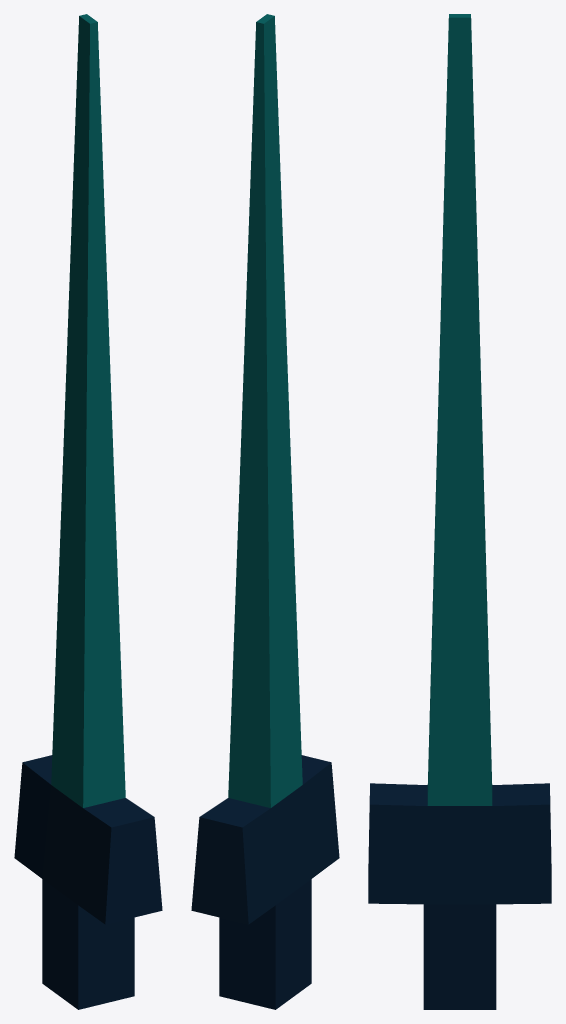
File: miecz.fbx
The picture shows the model from 3 angles, left to right: view 1: azimuth 30°, elevation 25°; view 2: azimuth 150°, elevation 25°; view 3: azimuth 270°, elevation 25°; orthographic projection.
Parts seen in each view (by area): view 1: Miecz; view 2: Miecz; view 3: Miecz.
Boxes of the visible parts, <box> form: Miecz: <box>14,14,162,1009</box>; Miecz: <box>191,14,339,1009</box>; Miecz: <box>368,14,551,1009</box>.
Size of the model in its own units: 5.31 by 86.13 by 14.61.
